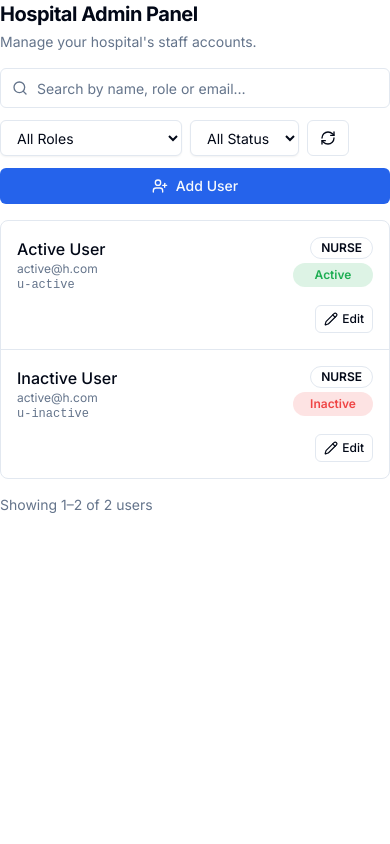
Test: AdminPage — Edit button replaces kebab menu › dialog exposes Deactivate for an active user and Reactivate for an inactive one
Click the button with aria-label "edit user " at (344, 319), box [315,305,373,333]
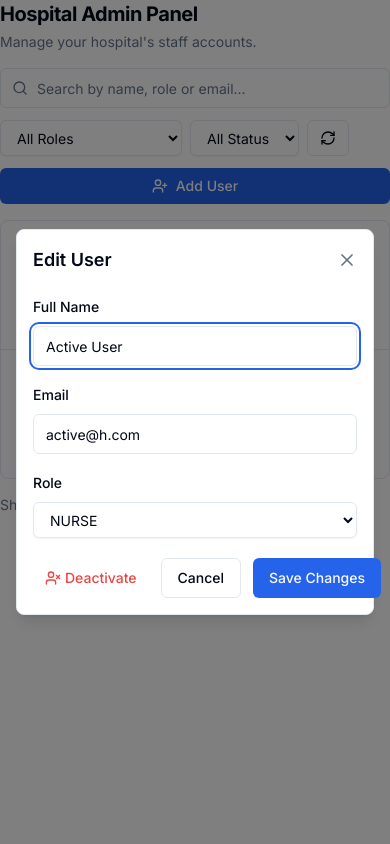
Check: the heading "Edit User" is shown, box [33,246,112,274]
Check: the button "Deactivate" is shown, box [33,560,148,596]
Click the button "Cancel" at (201, 578), box [160,558,241,598]
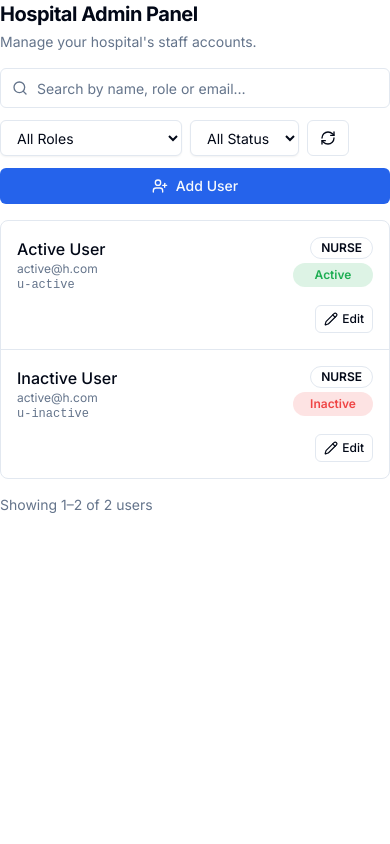
Click the button with aria-label "edit user inactive user" at (344, 448), box [315,434,373,462]
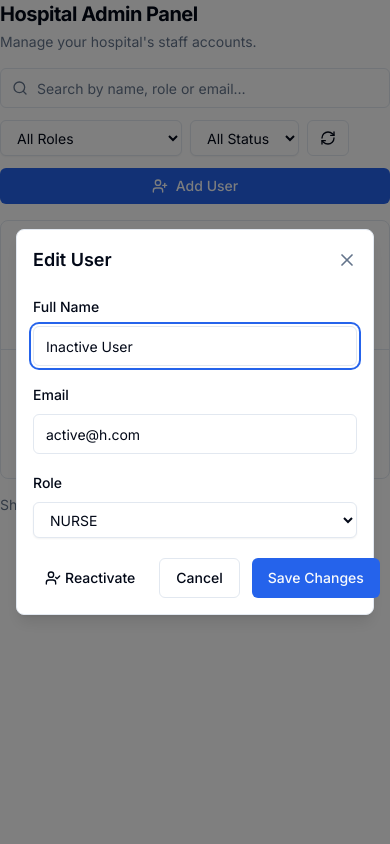
Check: the heading "Edit User" is shown, box [33,246,112,274]
Check: the button "Reactivate" is shown, box [33,560,147,596]
